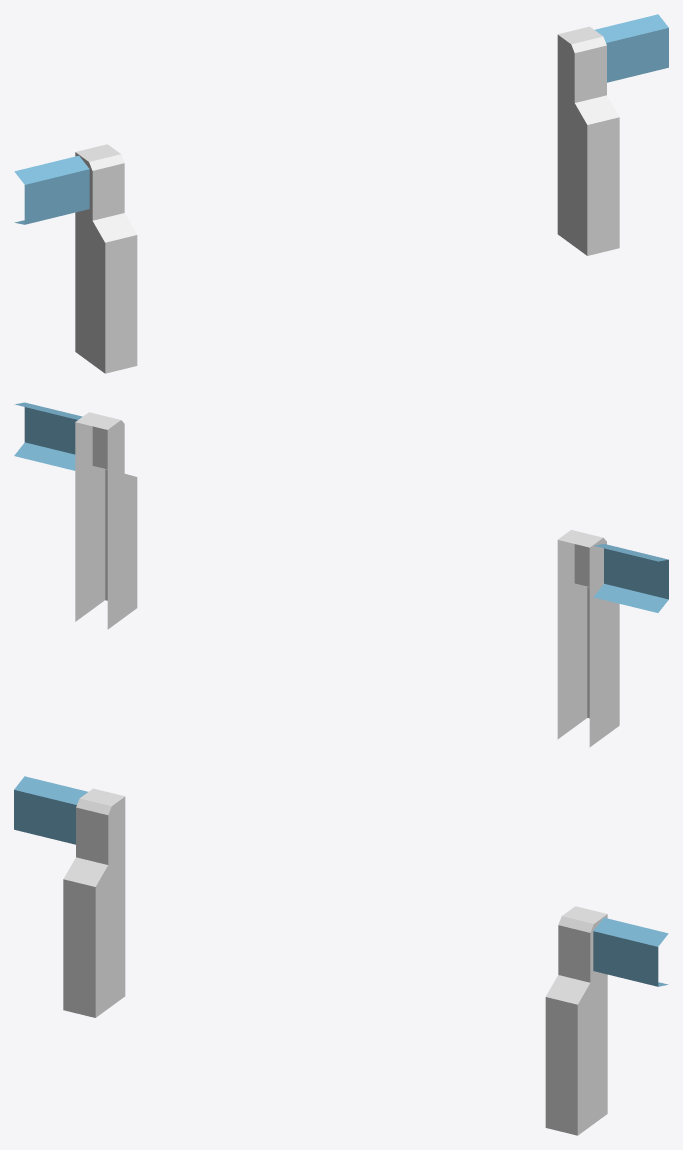
Rendered from DoorDoubleLong_Wall_SideA.004.fbx.
3 views of the same model, one above another, from view 1: azimuth 30°, elevation 25°; view 2: azimuth 150°, elevation 25°; view 3: azimuth 330°, elevation 25° (orthographic).
Visible parts, largest first — view 1: DoorDoubleLong_Wall_SideA.004; view 2: DoorDoubleLong_Wall_SideA.004; view 3: DoorDoubleLong_Wall_SideA.004.
Boxes of the visible parts, x1=… form: DoorDoubleLong_Wall_SideA.004: x1=14, y1=14, x2=668, y2=373; DoorDoubleLong_Wall_SideA.004: x1=14, y1=402, x2=668, y2=747; DoorDoubleLong_Wall_SideA.004: x1=14, y1=776, x2=668, y2=1135.
Size of the model in its own units: 2 by 0.593 by 0.1603.
